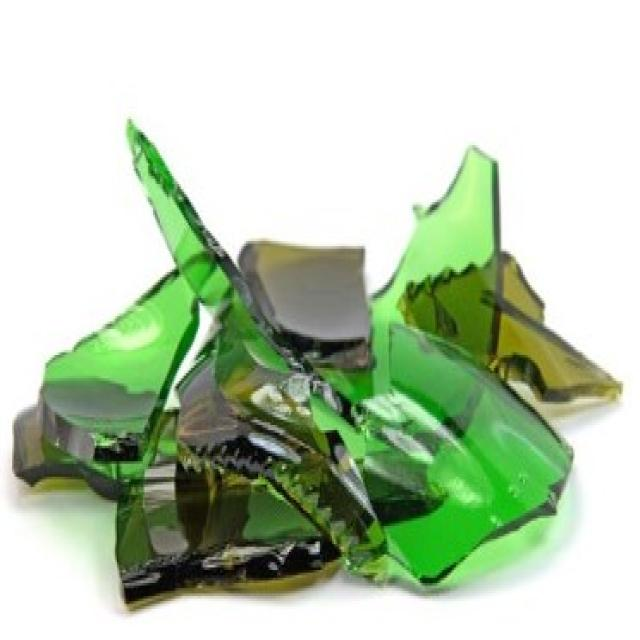electronic: (12, 104, 635, 615)
